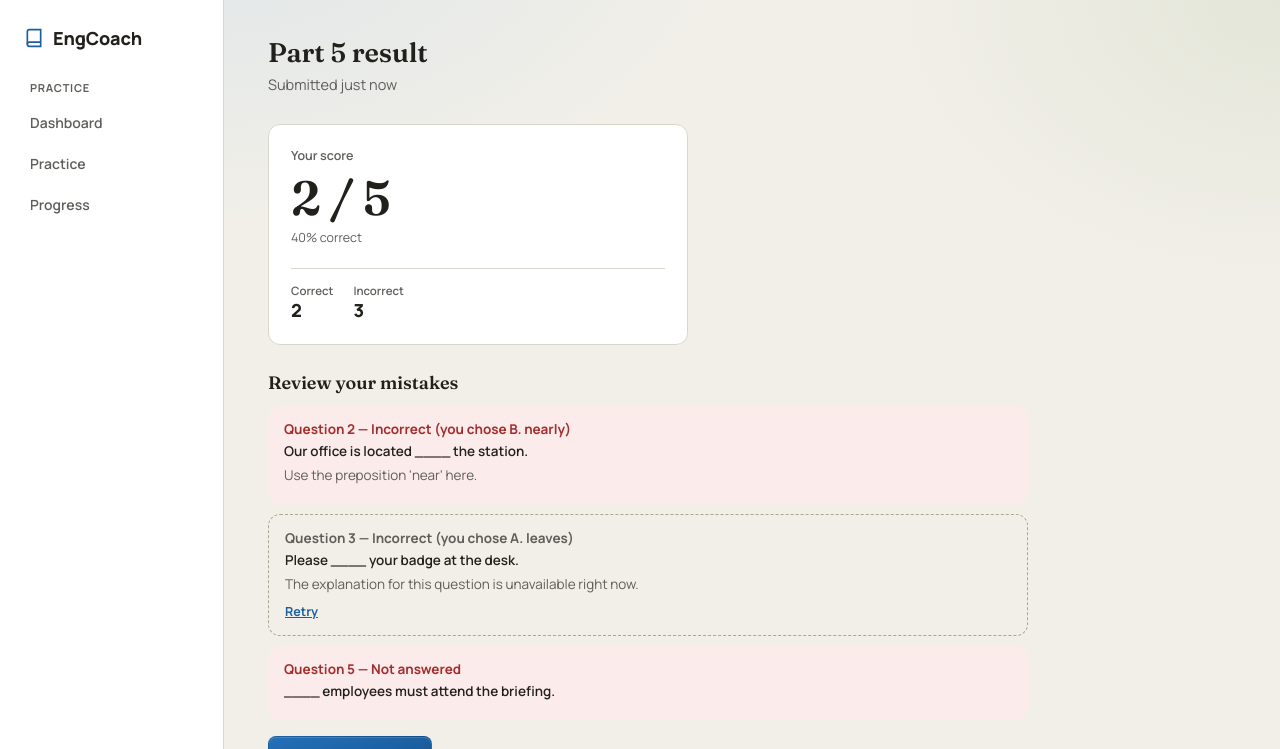
Result screen (S9) › a retry that is still UNAVAILABLE says so and keeps the Retry button
The image size is (1280, 749).
Click the button "Retry". click: (302, 612)
box: [285,603,318,620]
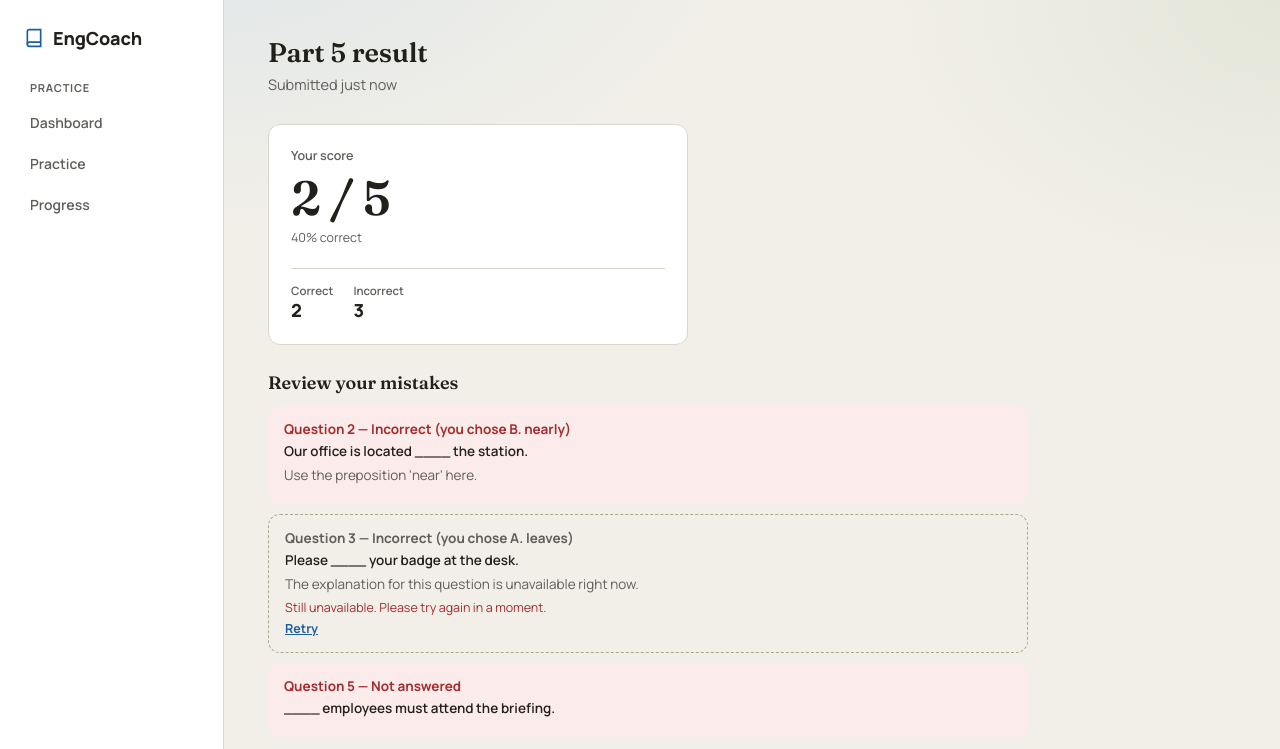
Expected: the button "Retry" is enabled, [285,620,318,637]
Expected: the message shows "Still unavailable", [285,599,546,616]
